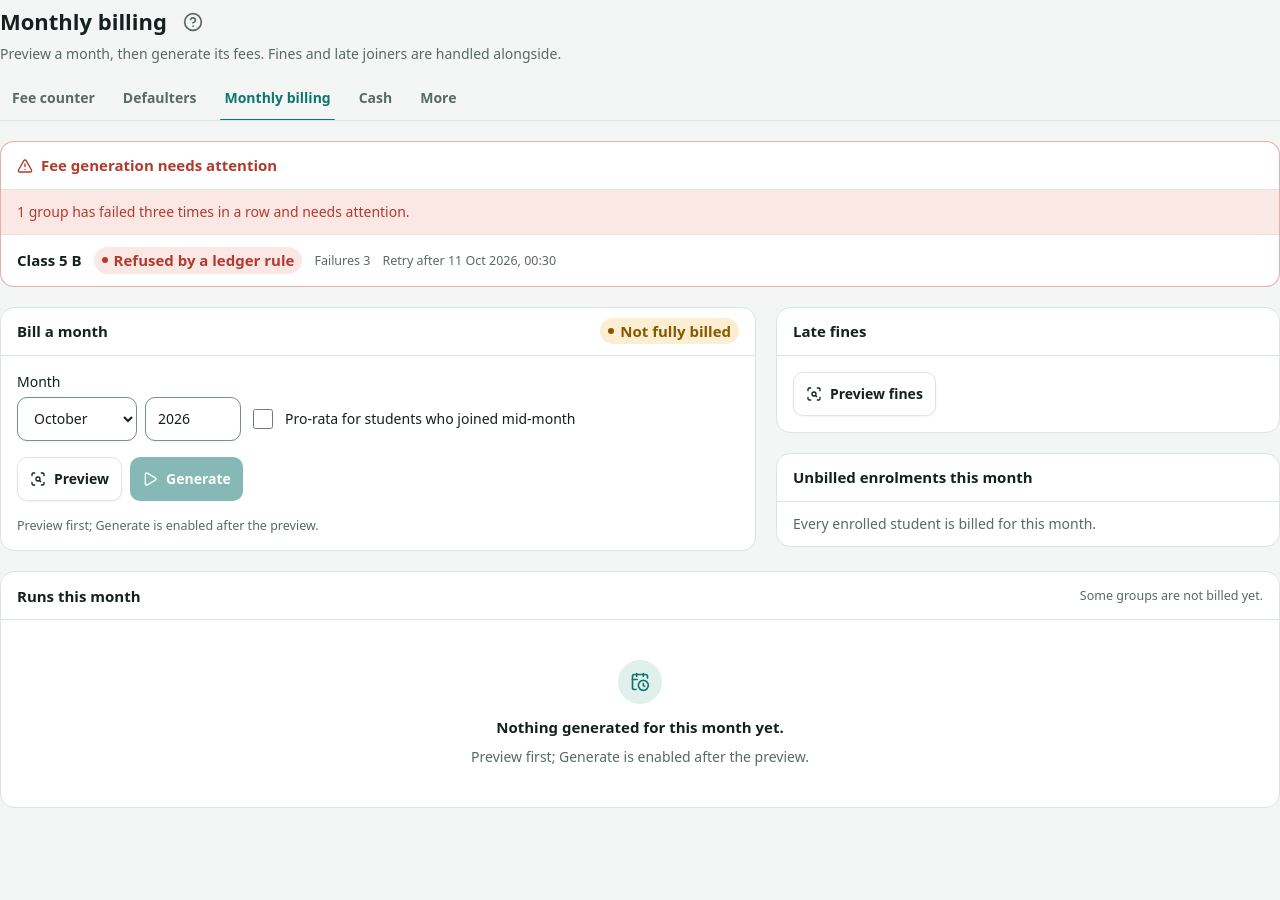
Scenario: billing › Generate needs the preview first, confirms its totals, then loops and shows the failed group
Expected: the text "1 group has failed three times in a row and needs attention." is shown, [1,190,1279,235]
Expected: the list with id "billing-failing" shows "Refused by a ledger rule", [114,250,294,270]
Click the button with id "billing-preview" at (70, 479), box [17,457,122,501]
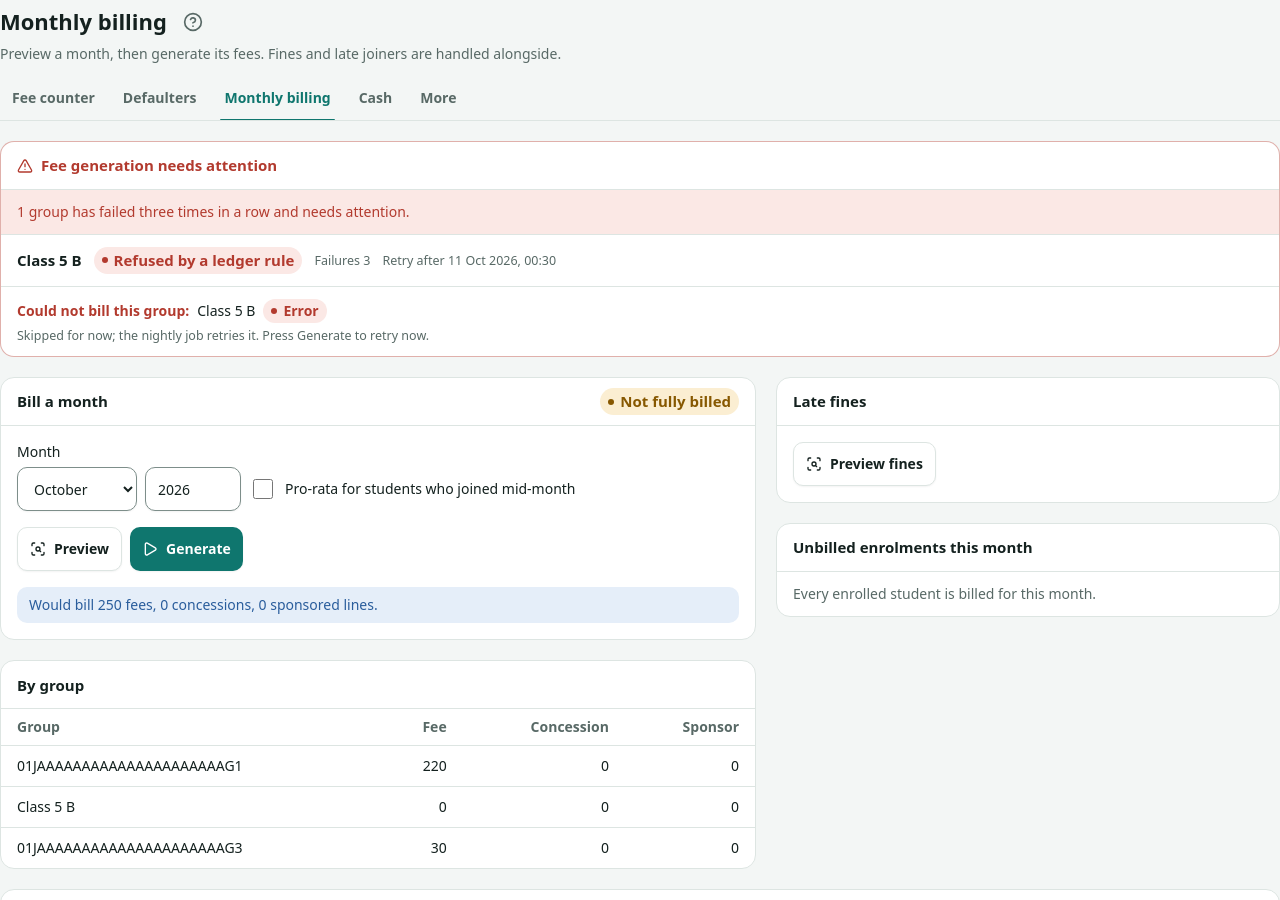
Expected: the button with id "billing-generate" is enabled
Click the button with id "billing-generate" at (186, 549), box [130,527,243,571]
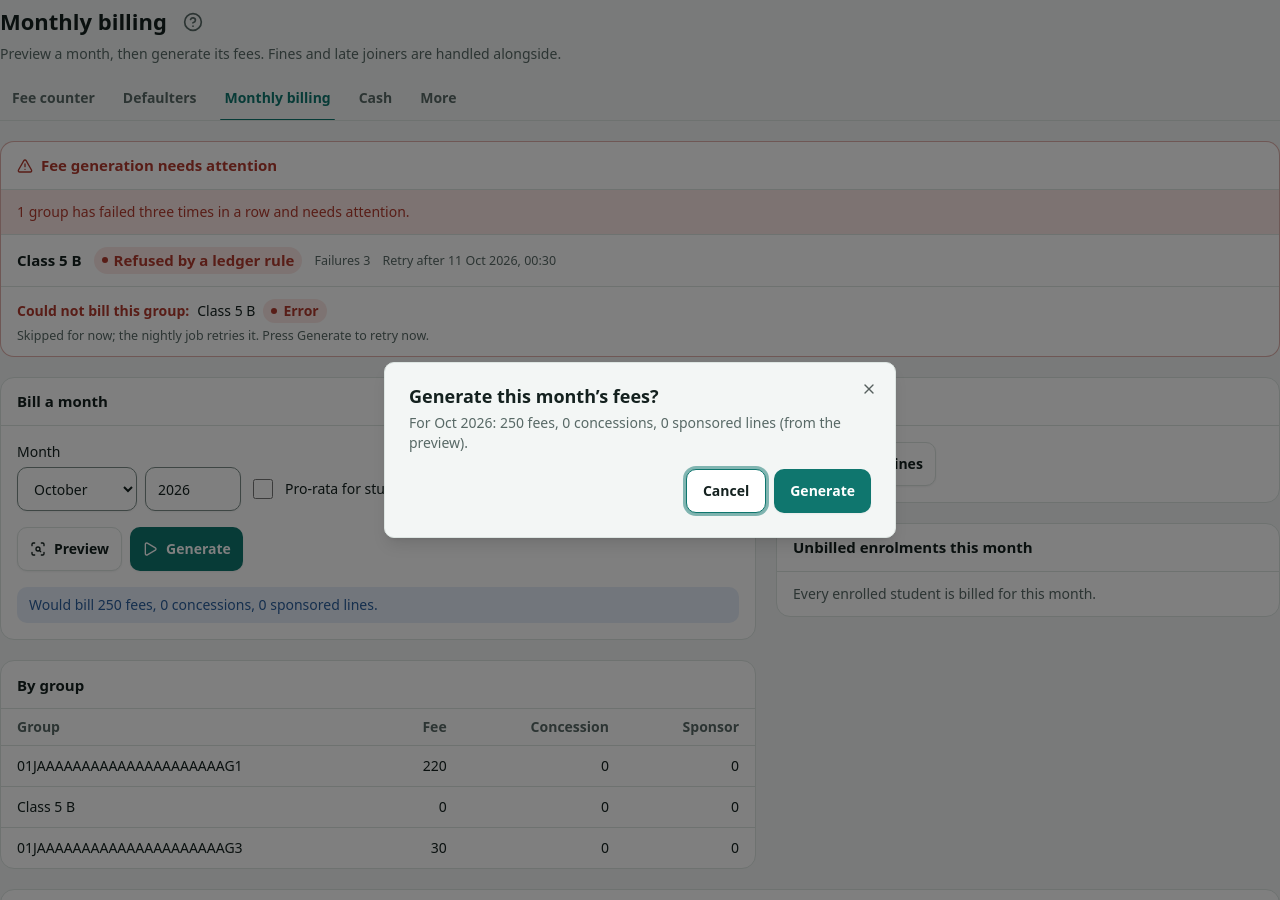
Expected: the text with id "billing-confirm-body" shows "250 fees", [409,413,841,452]
Click the button with id "billing-generate-confirm" at (823, 491), box [774,469,871,513]
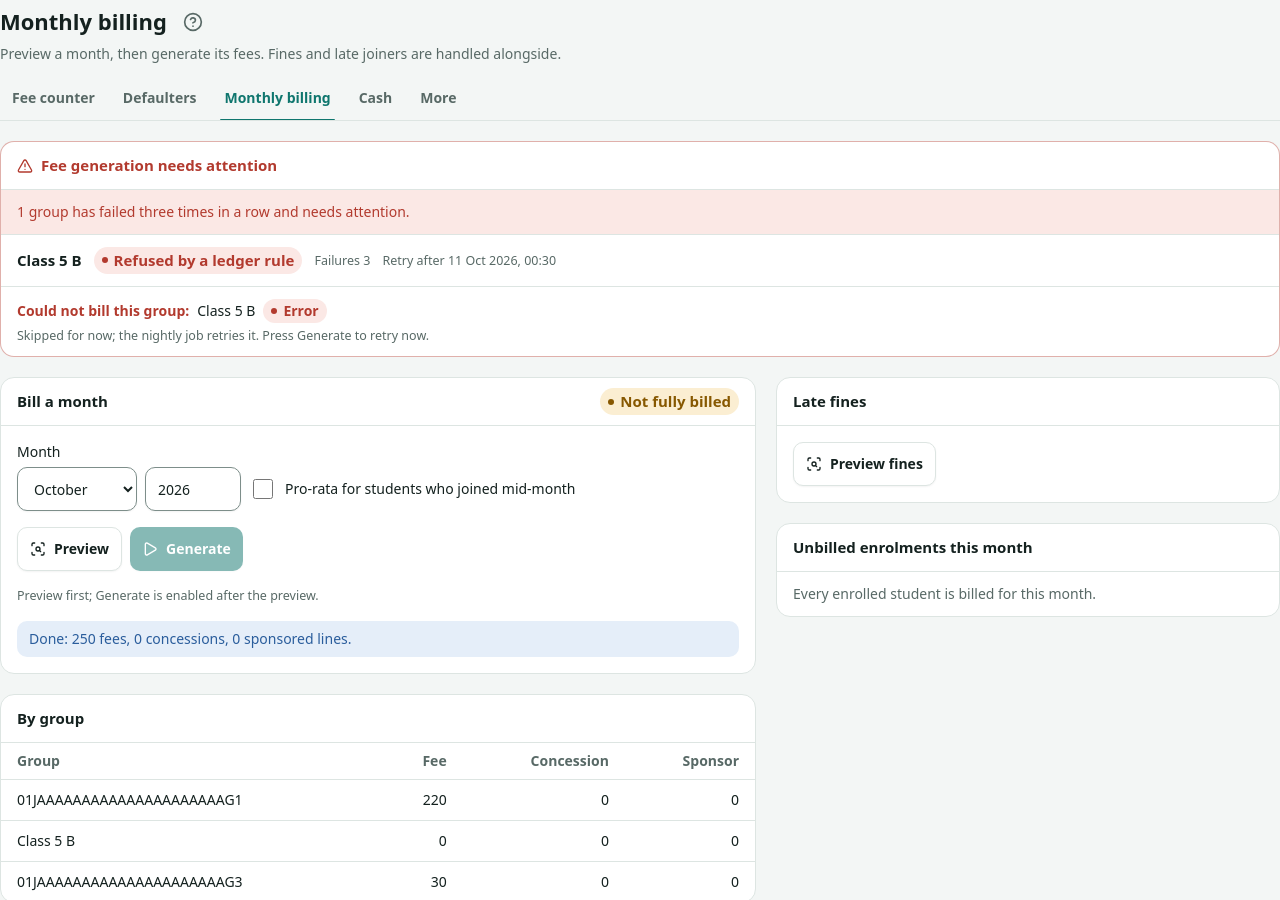
Expected: the message with id "billing-failed" shows "Class 5 B", [197,300,255,320]
Expected: the message with id "billing-failed" shows "Error", [283,300,319,320]
Expected: the message with id "billing-result" shows "Done: 250 fees", [29,629,352,648]
